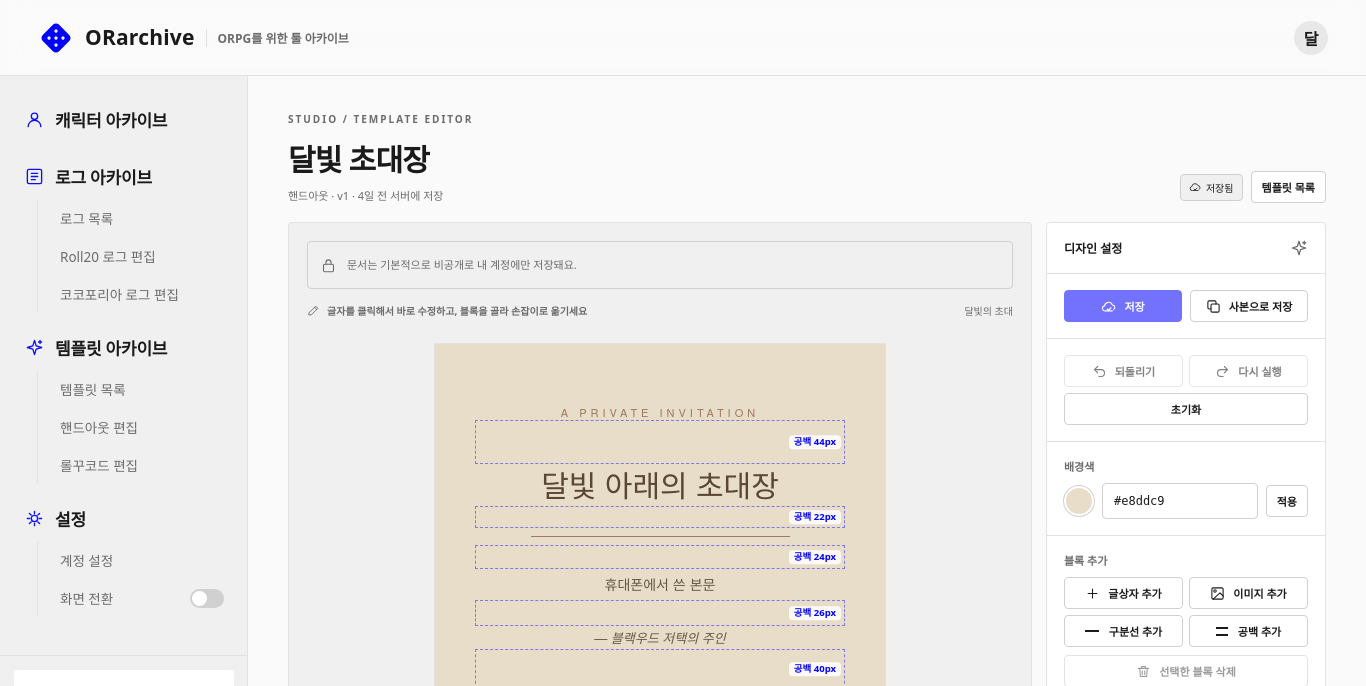
Test: 핸드아웃 스튜디오 — 휴대폰에서 충돌 › 충돌 안내가 뜨면 입력 중이던 칸에서 커서를 빼고(키보드 내림), 입력한 글자는 남아 "내 변경으로 덮어쓰기"로 저장된다
The image size is (1366, 686).
Later steps or results of the test are not shown.
Clear the field labelled "휴대폰에서 쓴 본문": {"x": 660, "y": 584} left=605, top=574, right=715, bottom=594
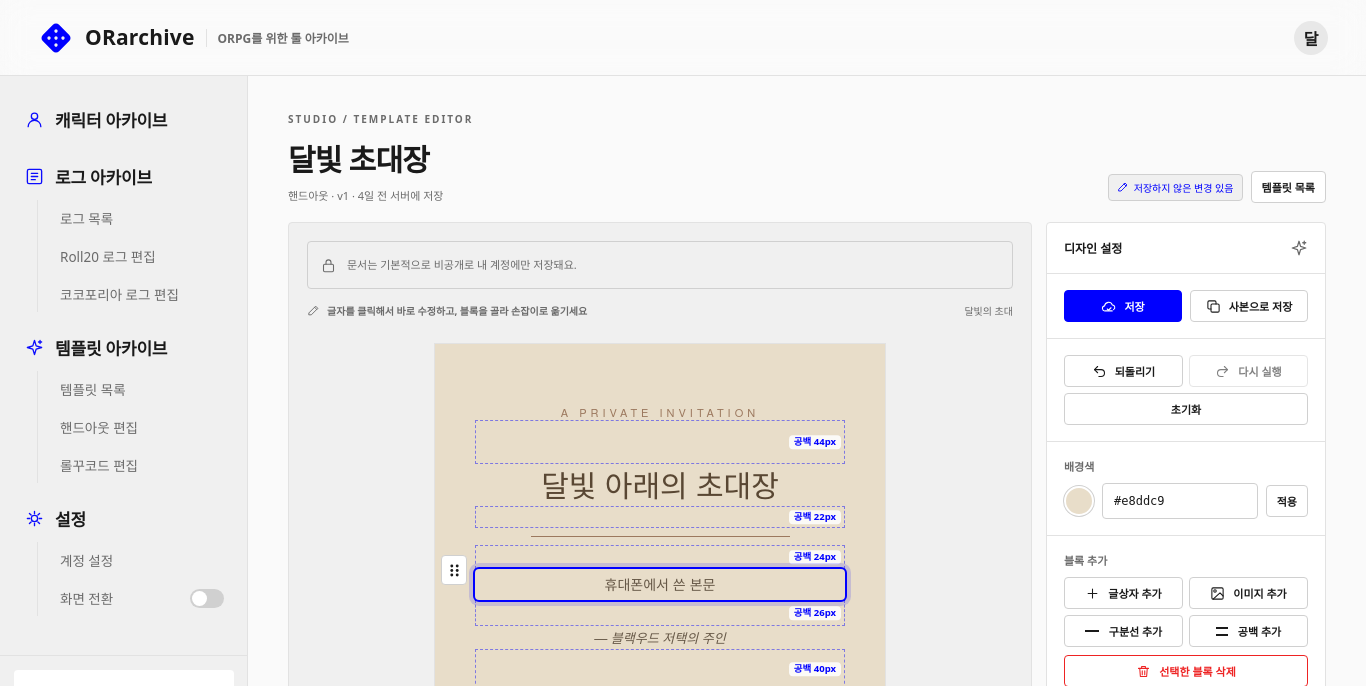
Click the button "저장": {"x": 1123, "y": 306} left=1064, top=290, right=1182, bottom=322
Wait 800 ms
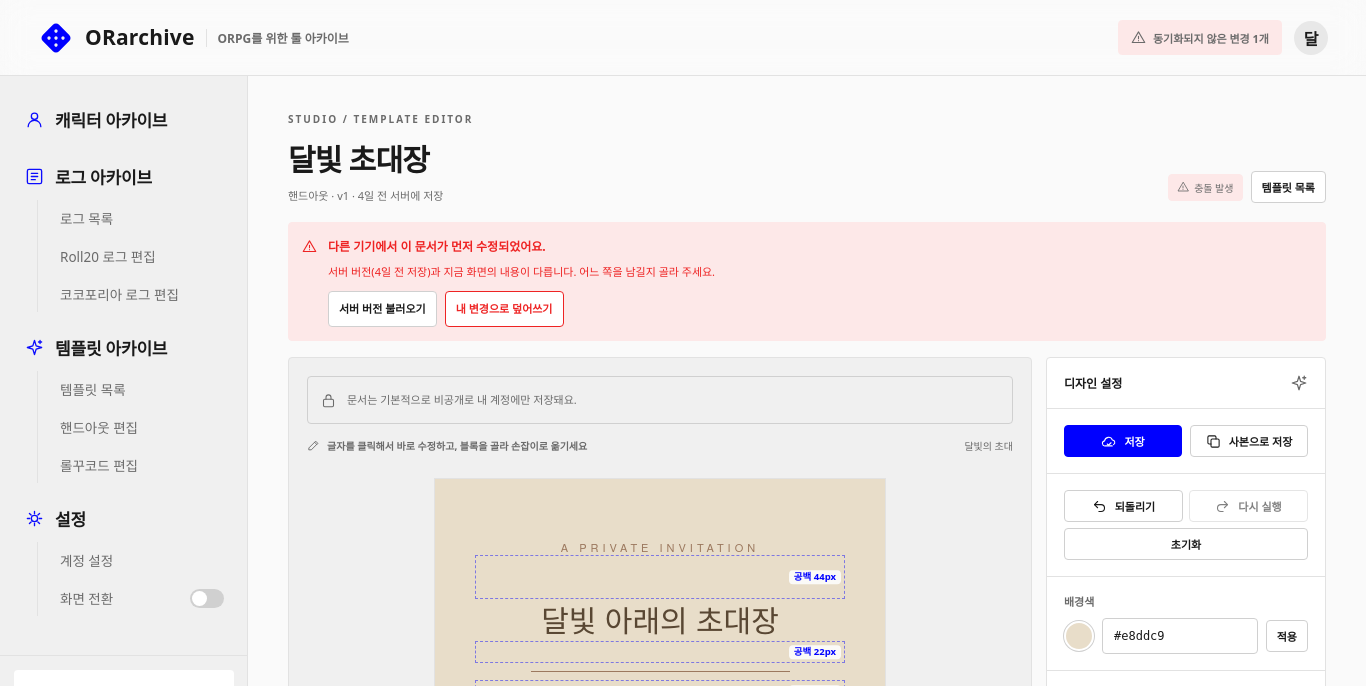
expect the message that starts with "다른 기기에서 이 문서가 먼저 수정되었어요." is shown: met, box left=328, top=238, right=546, bottom=255
